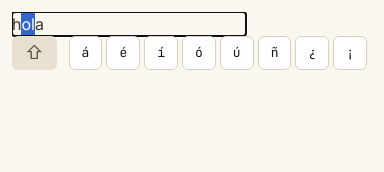
Test: AccentPicker › replaces selection range
Click the button named "insert á" at (86, 53), box [69,36,102,70]
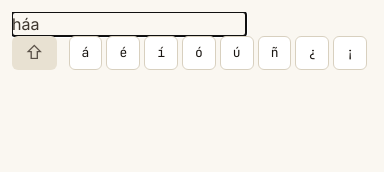
expect the field with test id "target" holds "háa": met, box [12,12,246,36]
